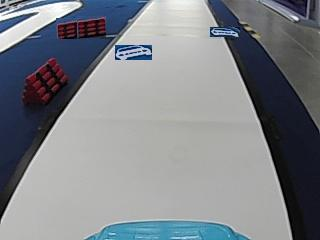bomb: (23, 54, 66, 105)
